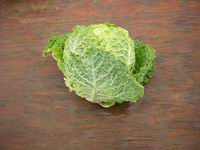cabbage: (44, 21, 154, 106)
